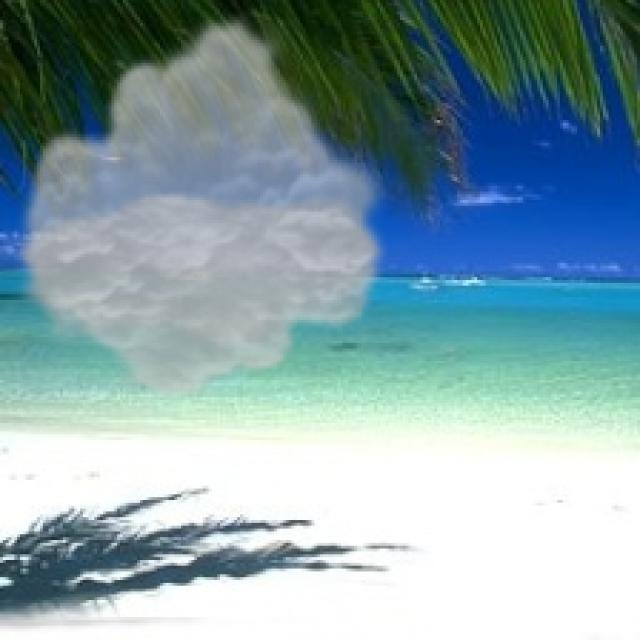Smoke: (8, 11, 394, 403)
